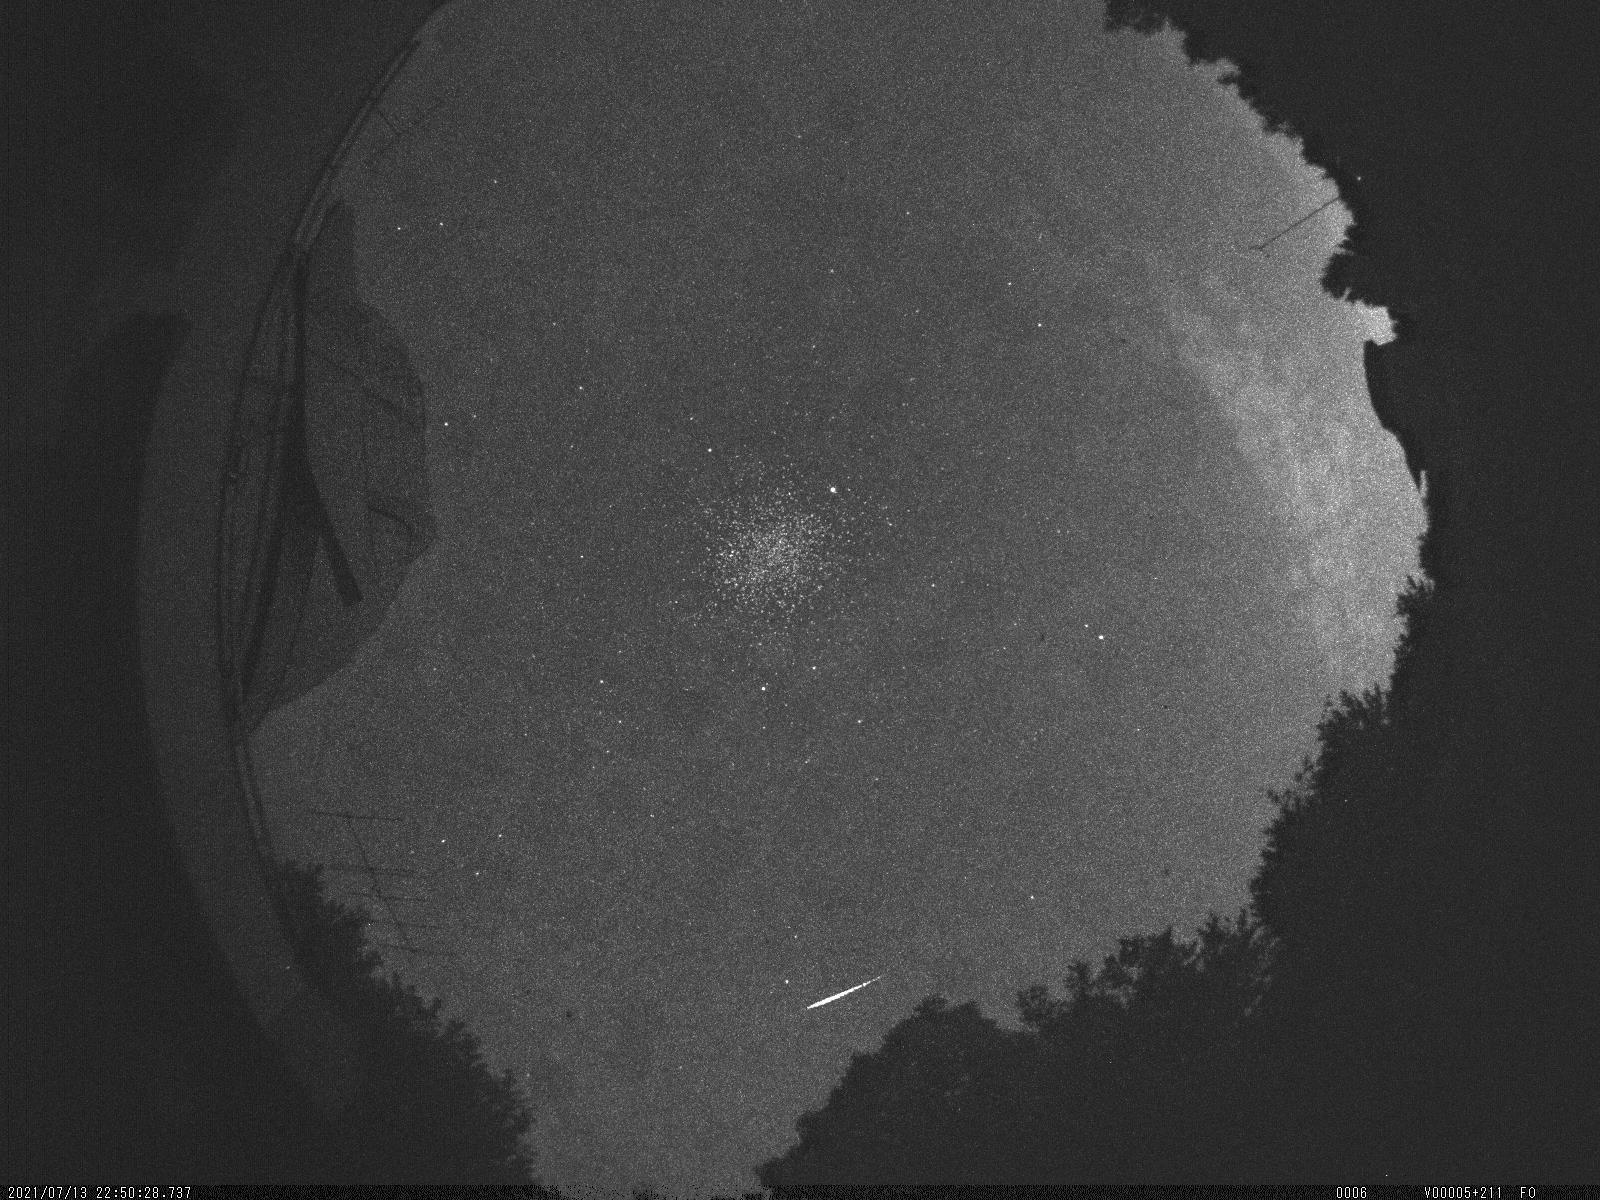Meteor: (793, 964, 897, 1019)
